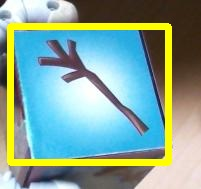Blue4: (10, 26, 168, 162)
